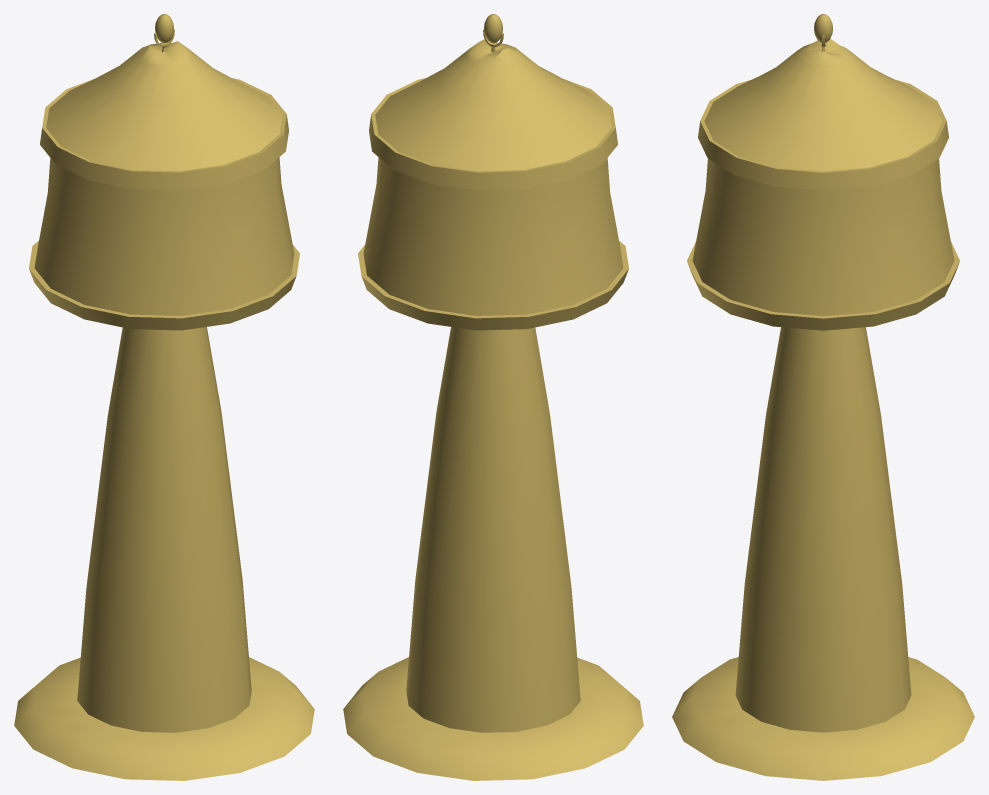
File: GR Lamp 5.fbx
3 views of the same model, side by side, from view 1: azimuth 30°, elevation 25°; view 2: azimuth 150°, elevation 25°; view 3: azimuth 270°, elevation 25° (orthographic).
Parts seen in each view (by area): view 1: Body, Screen; view 2: Body, Screen; view 3: Body, Screen.
Boxes of the visible parts, x1,y1,x2,y2 form: Body: (14,41,314,780); Screen: (34,157,294,315); Body: (343,39,643,780); Screen: (363,157,623,315); Body: (672,38,974,780); Screen: (692,158,954,316).
Size of the model in its own units: 48.59 by 124 by 48.59.
